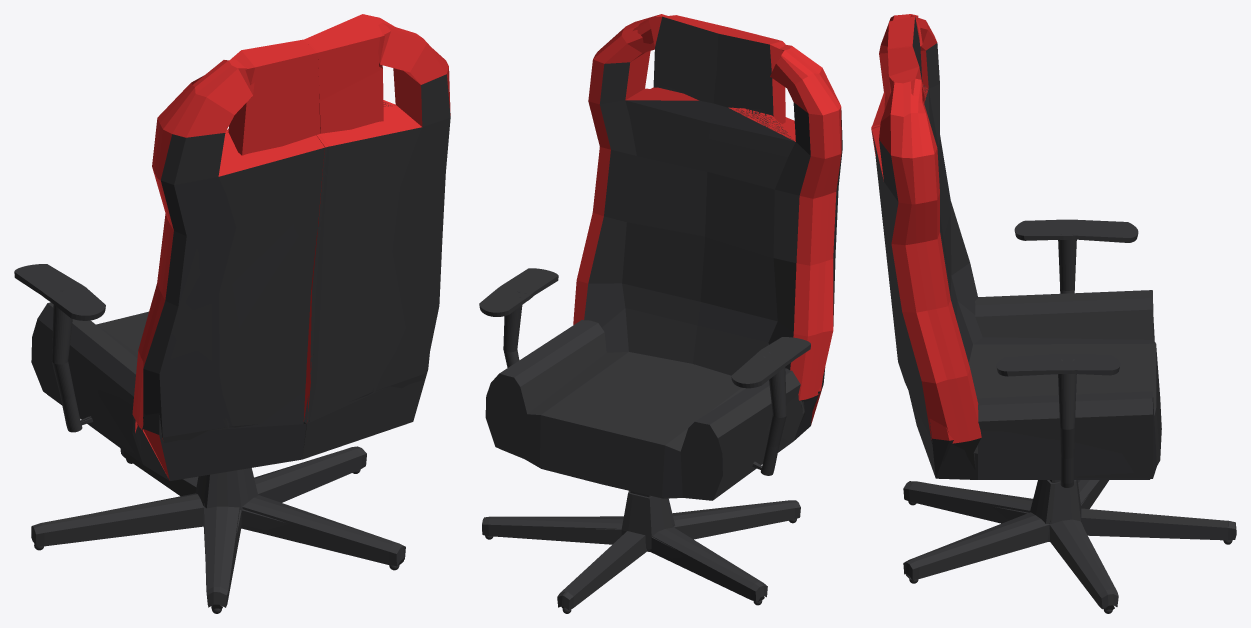
The model's file is Silla para proyecto.fbx.
The picture shows the model from 3 angles, left to right: view 1: azimuth 30°, elevation 25°; view 2: azimuth 150°, elevation 25°; view 3: azimuth 270°, elevation 25°; orthographic projection. The views are drawn at different scales.
Visible parts, largest first — view 1: Cylinder; view 2: Cylinder; view 3: Cylinder.
Part boxes in pixels (x1,y1,x2,y2): Cylinder: [14, 14, 450, 613]; Cylinder: [479, 14, 842, 613]; Cylinder: [871, 14, 1236, 613].
Size of the model in its own units: 199 by 311 by 204.
